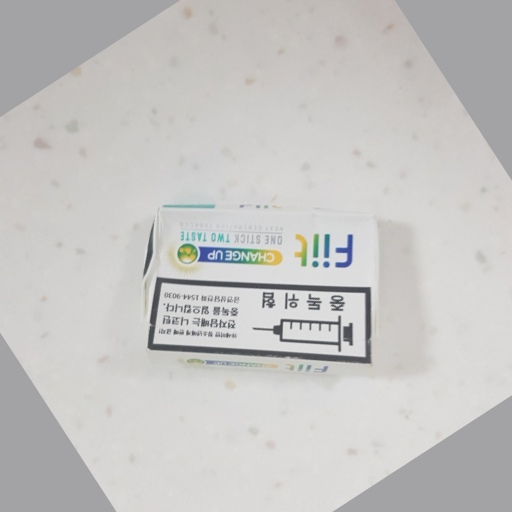Paper_0: (140, 201, 381, 378)
